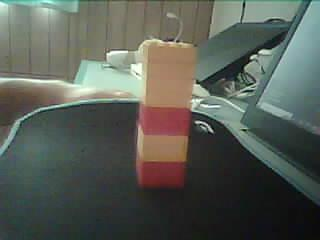lego: (134, 38, 197, 188)
